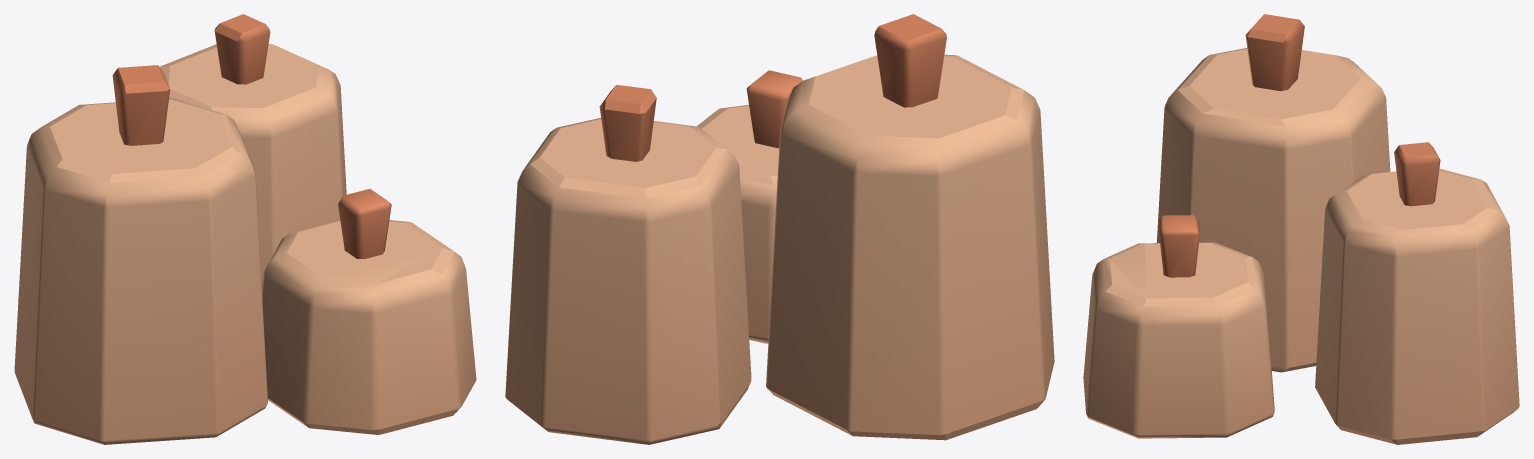
File: kenney-graveyard__candle-multiple.glb
3 views of the same model, side by side, from view 1: azimuth 30°, elevation 25°; view 2: azimuth 150°, elevation 25°; view 3: azimuth 270°, elevation 25° (orthographic). The views are drawn at different scales.
Visible parts, largest first — view 1: candle-multiple; view 2: candle-multiple; view 3: candle-multiple.
Part boxes in pixels (x1,y1,x2,y2): candle-multiple: [14, 14, 476, 444]; candle-multiple: [505, 14, 1054, 444]; candle-multiple: [1083, 14, 1519, 444].
Bounding box in the file's own units: 0.2538 × 0.2002 × 0.2657.
1 material, 1 textured.
